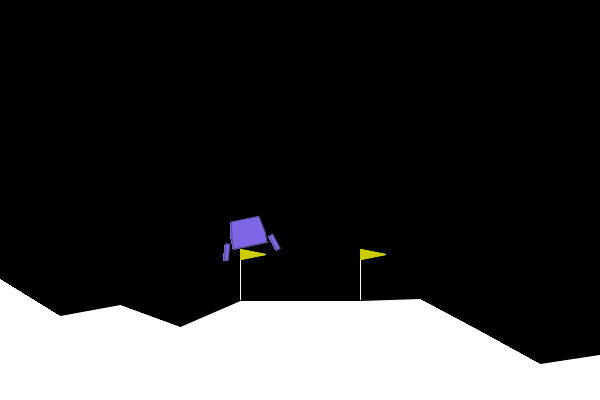lander: (215, 211, 282, 263)
